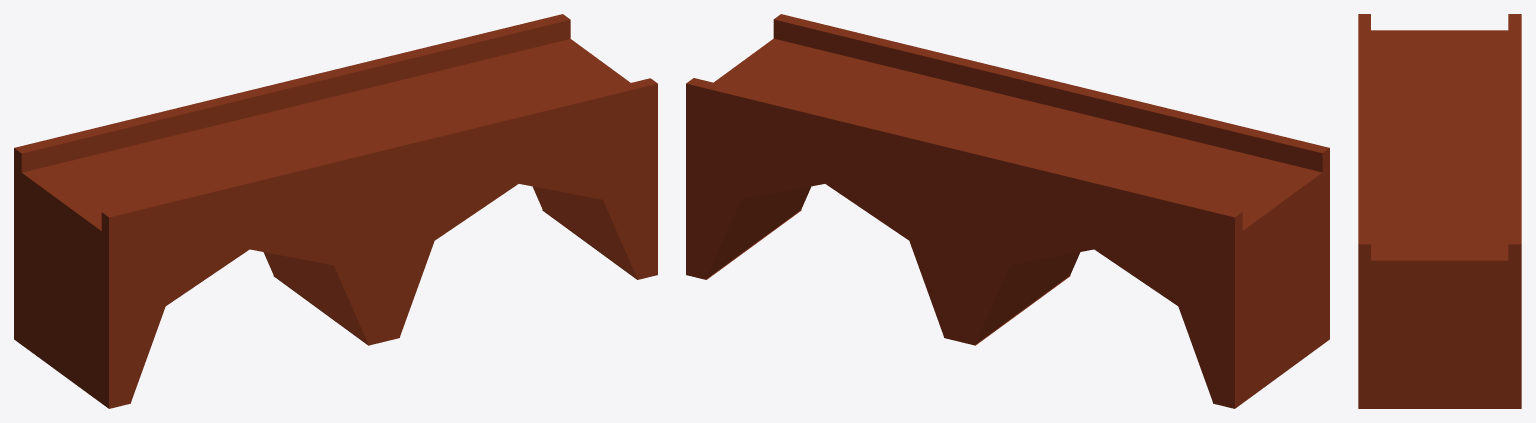
File: SimpleBridge.FBX
The picture shows the model from 3 angles, left to right: view 1: azimuth 30°, elevation 25°; view 2: azimuth 150°, elevation 25°; view 3: azimuth 270°, elevation 25°; orthographic projection. The views are drawn at different scales.
Visible parts, largest first — view 1: Box001; view 2: Box001; view 3: Box001.
Part boxes in pixels (x1,y1,x2,y2): Box001: (14, 14, 657, 408); Box001: (686, 14, 1329, 408); Box001: (1358, 14, 1521, 408).
Size of the model in its own units: 30 by 9 by 10.
